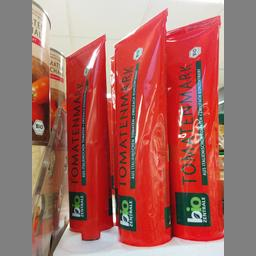tomato_sauce: (111, 7, 170, 254), (164, 14, 222, 254), (63, 32, 114, 254)
